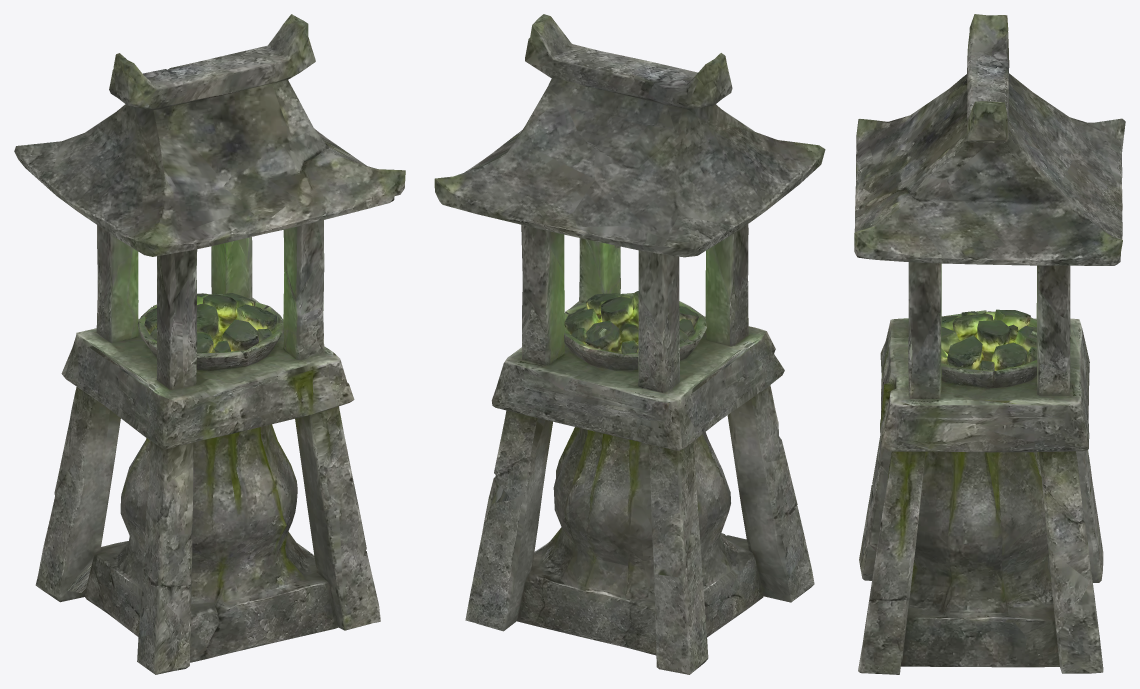
The model's file is prop_plague_brazier.0ccc99d1.glb.
The picture shows the model from 3 angles, left to right: view 1: azimuth 30°, elevation 25°; view 2: azimuth 150°, elevation 25°; view 3: azimuth 270°, elevation 25°; orthographic projection.
Parts seen in each view (by area): view 1: tripo_node_208cedd5-ec91-4774-8eeb-979335d505b4; view 2: tripo_node_208cedd5-ec91-4774-8eeb-979335d505b4; view 3: tripo_node_208cedd5-ec91-4774-8eeb-979335d505b4.
Boxes of the visible parts, x1,y1,x2,y2 form: tripo_node_208cedd5-ec91-4774-8eeb-979335d505b4: (14, 14, 405, 674); tripo_node_208cedd5-ec91-4774-8eeb-979335d505b4: (434, 14, 825, 674); tripo_node_208cedd5-ec91-4774-8eeb-979335d505b4: (854, 14, 1125, 674).
Bounding box in the file's own units: 0.6967 × 1.42 × 0.6125.
1 material, 1 textured.
